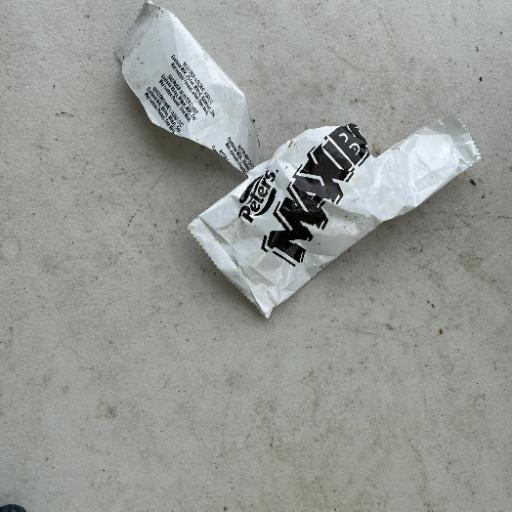Plastic: (111, 2, 483, 320)
